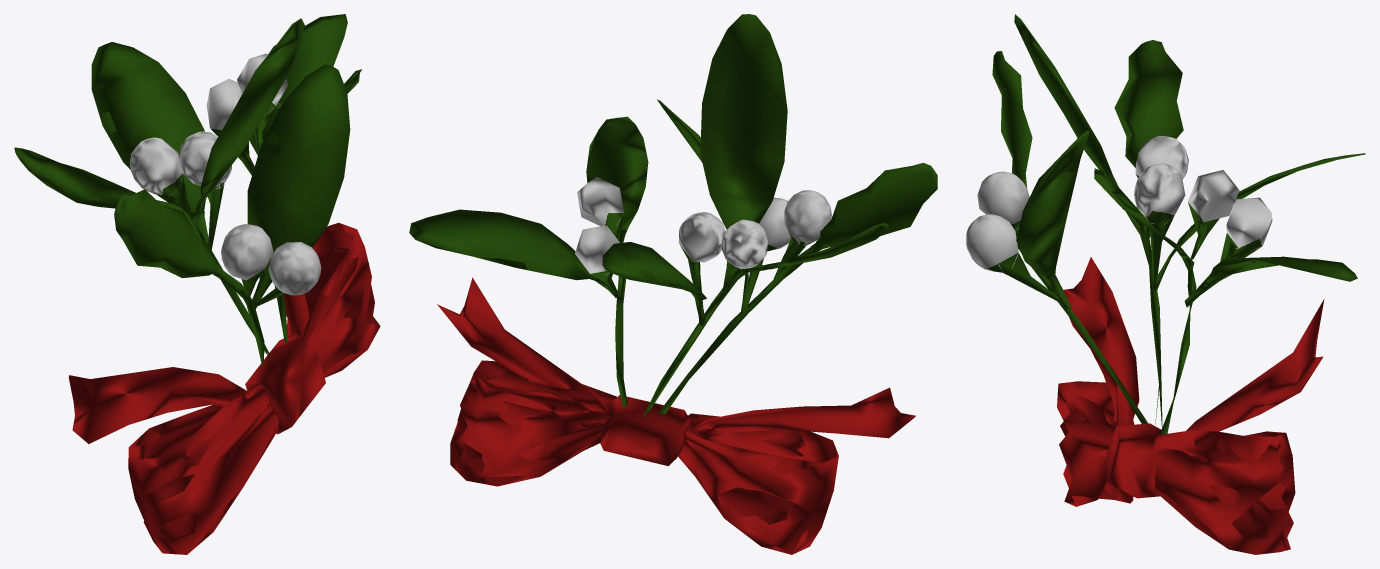
File: mistletoe.obj
The picture shows the model from 3 angles, left to right: view 1: azimuth 30°, elevation 25°; view 2: azimuth 150°, elevation 25°; view 3: azimuth 270°, elevation 25°; orthographic projection. The views are drawn at different scales.
Parts seen in each view (by area): view 1: 12153_mistletoe_v2_l3; view 2: 12153_mistletoe_v2_l3; view 3: 12153_mistletoe_v2_l3.
Boxes of the visible parts, x1,y1,x2,y2 form: 12153_mistletoe_v2_l3: [14, 14, 380, 554]; 12153_mistletoe_v2_l3: [409, 14, 937, 554]; 12153_mistletoe_v2_l3: [966, 14, 1365, 554].
Bounding box in the file's own units: 7.36 × 8.84 × 6.04.
